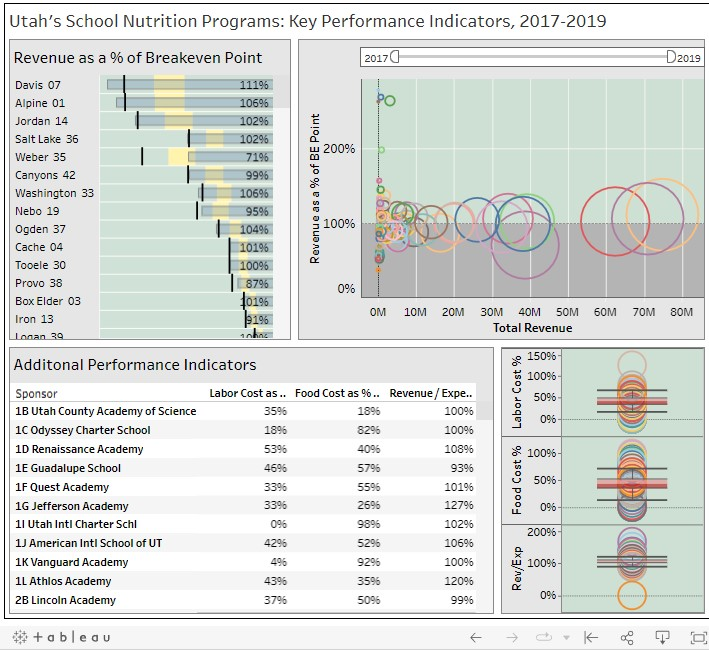

Layout of this report page (visuals, bound fields, positions):
{"tool":"tableau","page":{"name":"Distributions","canvas":[900,500],"ordinal":1},"visuals":[{"type":"text","box":[9,9,882,28]},{"type":"worksheet","title":"Sheet 1","mark":"Automatic","rows":["List By Name.x (copy)_692991420351942658"],"box":[9,37,540.8,212.9]},{"type":"worksheet","title":"Sheet 6 (2)","mark":"Circle","cols":["Z Score Mean"],"box":[549.8,37,341.2,53.6]},{"type":"worksheet","title":"Sheet 3","mark":"Automatic","rows":["Z Score Mean"],"cols":["Z Score Mean (bin)"],"box":[549.8,90.7,341.2,159.3]},{"type":"text","box":[9,250,882,29.7]},{"type":"worksheet","title":"Sheet 2","mark":"Automatic","rows":["List By Name.x (copy)_692991420351942658"],"box":[9,279.7,540,211.3]},{"type":"worksheet","title":"Sheet 6","mark":"Circle","cols":["Z Score Yoy"],"box":[549,279.7,342,52.8]},{"type":"worksheet","title":"Sheet 5","mark":"Automatic","rows":["Z Score Yoy"],"cols":["Z Score Yoy (bin)"],"box":[549,332.5,342,158.5]}]}

Visuals, with their boxes on the page's 900x500 design canvas (x1, y1, x2, y2). These are canvas units, not pixel positions in the 709x652 screenshot, which may show the page scaled, cropped or inside an application window:
text: x1=9, y1=9, x2=891, y2=37
"Sheet 1" worksheet: x1=9, y1=37, x2=550, y2=250
"Sheet 6 (2)" worksheet (Circle marks): x1=550, y1=37, x2=891, y2=91
"Sheet 3" worksheet: x1=550, y1=91, x2=891, y2=250
text: x1=9, y1=250, x2=891, y2=280
"Sheet 2" worksheet: x1=9, y1=280, x2=549, y2=491
"Sheet 6" worksheet (Circle marks): x1=549, y1=280, x2=891, y2=332
"Sheet 5" worksheet: x1=549, y1=332, x2=891, y2=491
